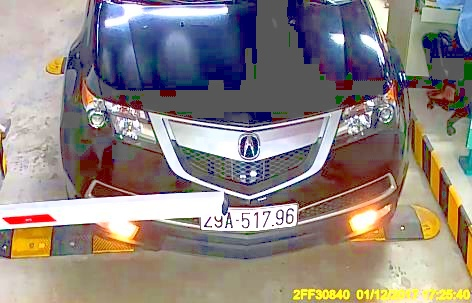plate: (200, 202, 299, 233)
